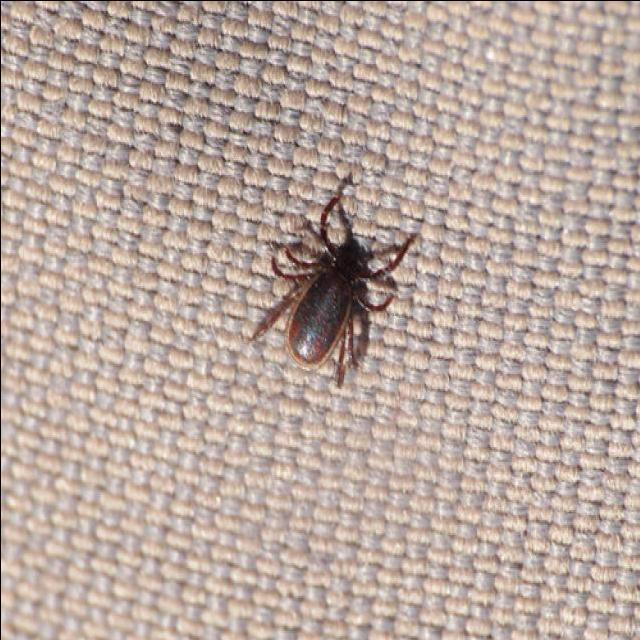Ixodes Ricinus-M: (250, 191, 407, 383)
